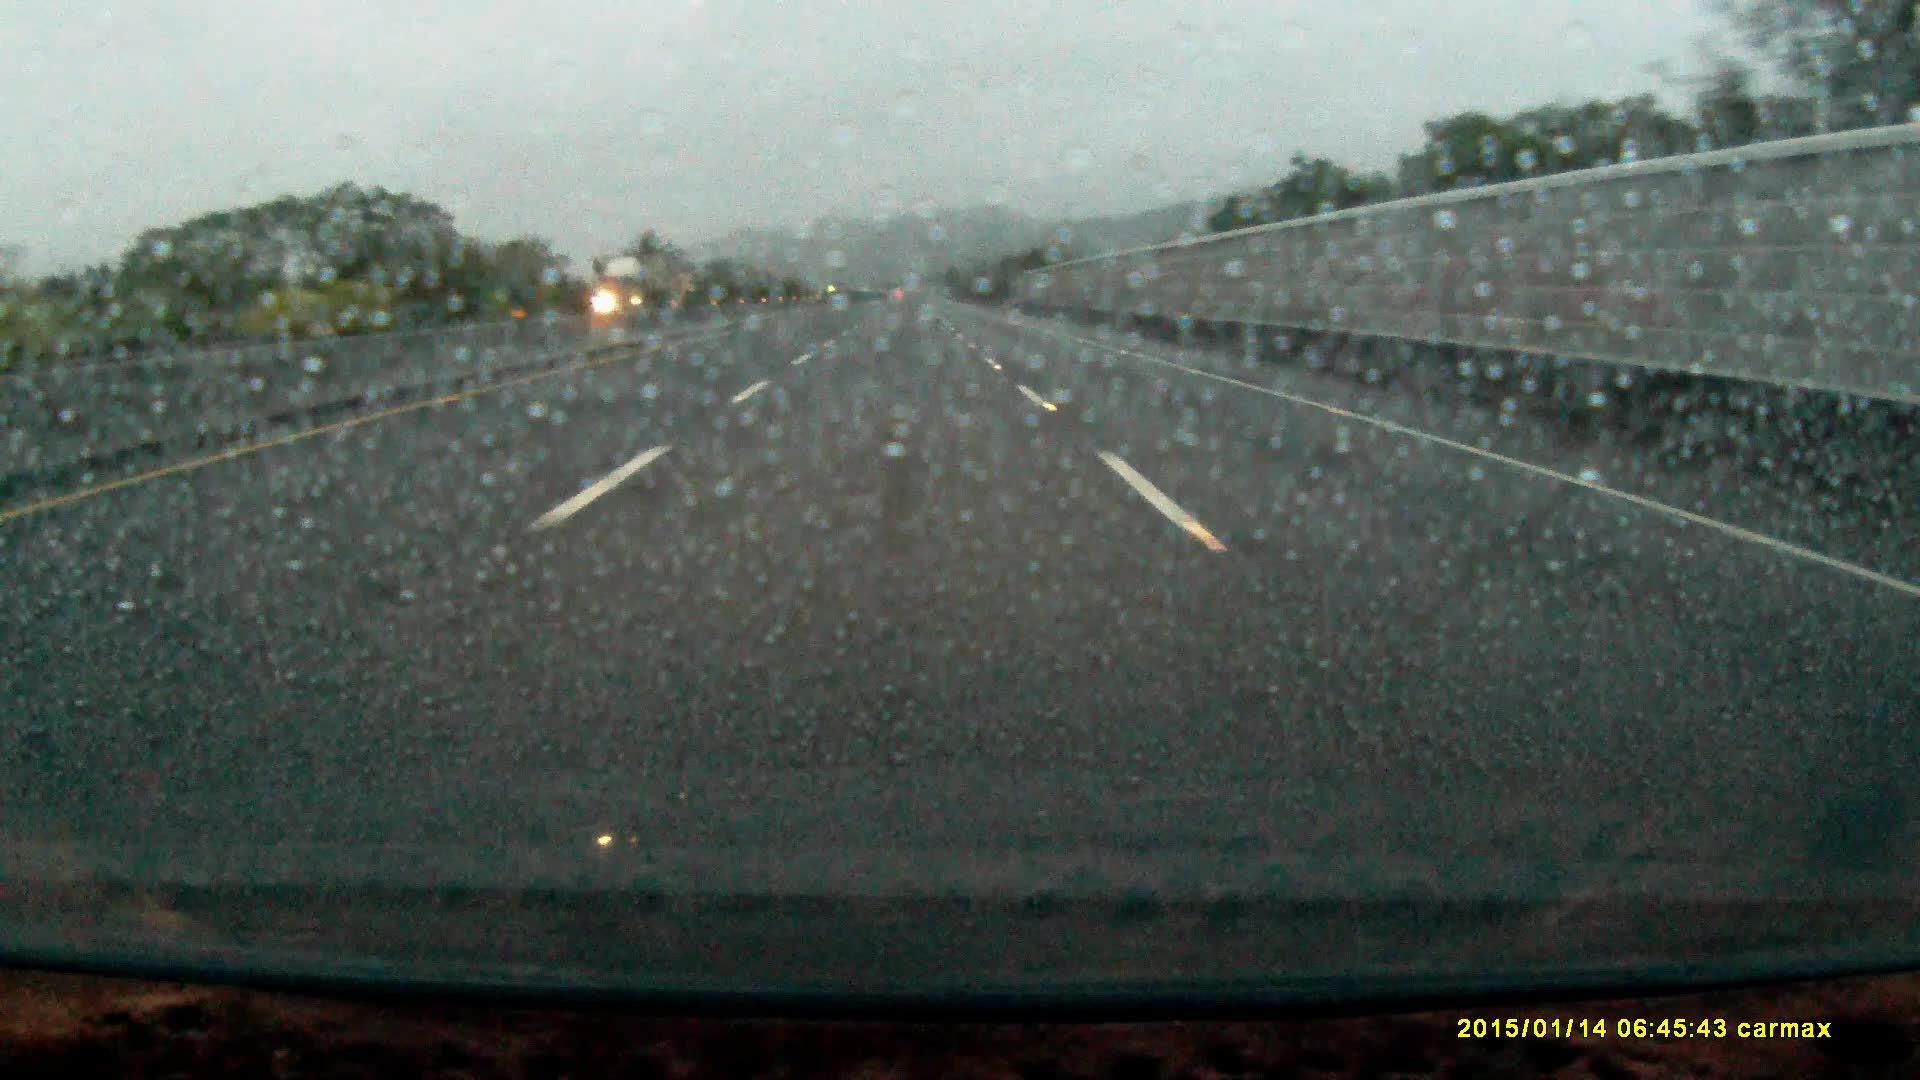vehicle: (593, 260, 679, 318)
